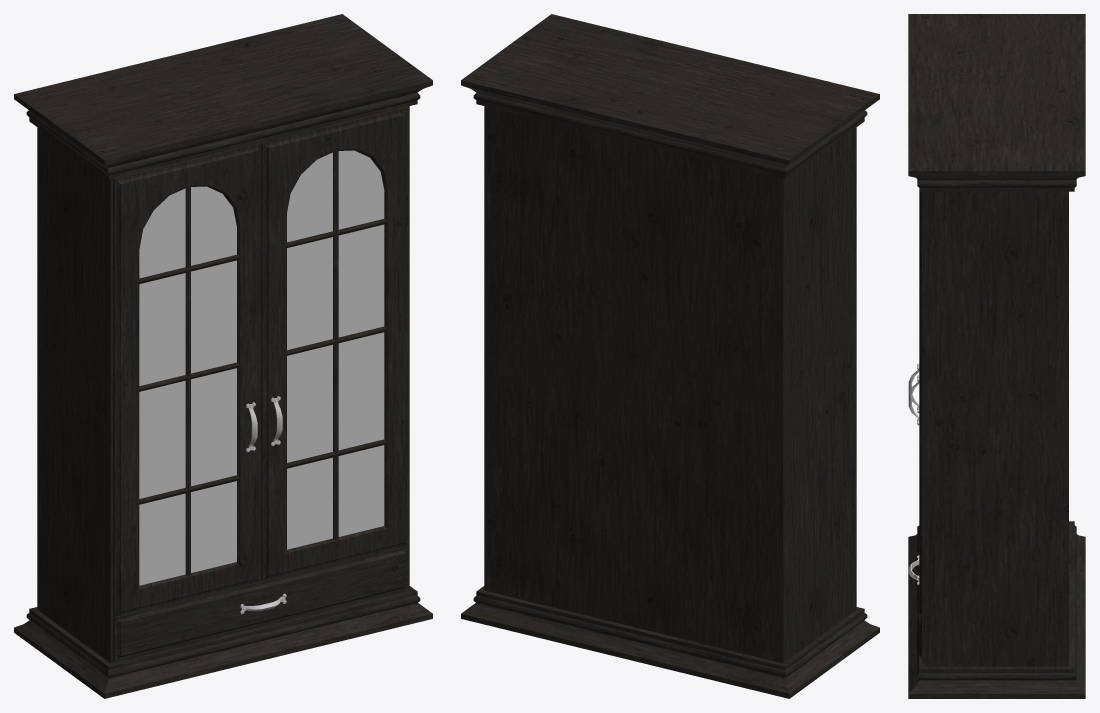
The model's file is display_cabinet_mp_2.fbx.
3 views of the same model, side by side, from view 1: azimuth 30°, elevation 25°; view 2: azimuth 150°, elevation 25°; view 3: azimuth 270°, elevation 25° (orthographic). The views are drawn at different scales.
Parts seen in each view (by area): view 1: display_cabinet_mp_2, display_cabinet_mp_2_drawer; view 2: display_cabinet_mp_2; view 3: display_cabinet_mp_2, display_cabinet_mp_2_drawer.
Part boxes in pixels (x1,y1,x2,y2): display_cabinet_mp_2: (14,14,432,698); display_cabinet_mp_2_drawer: (113,546,408,661); display_cabinet_mp_2: (461,14,879,698); display_cabinet_mp_2: (908,14,1085,698); display_cabinet_mp_2_drawer: (908,555,924,662).
Bounding box in the file's own units: 1.34 × 2.1 × 0.64.
